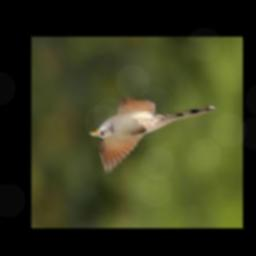Cuckoo: (89, 101, 216, 172)
